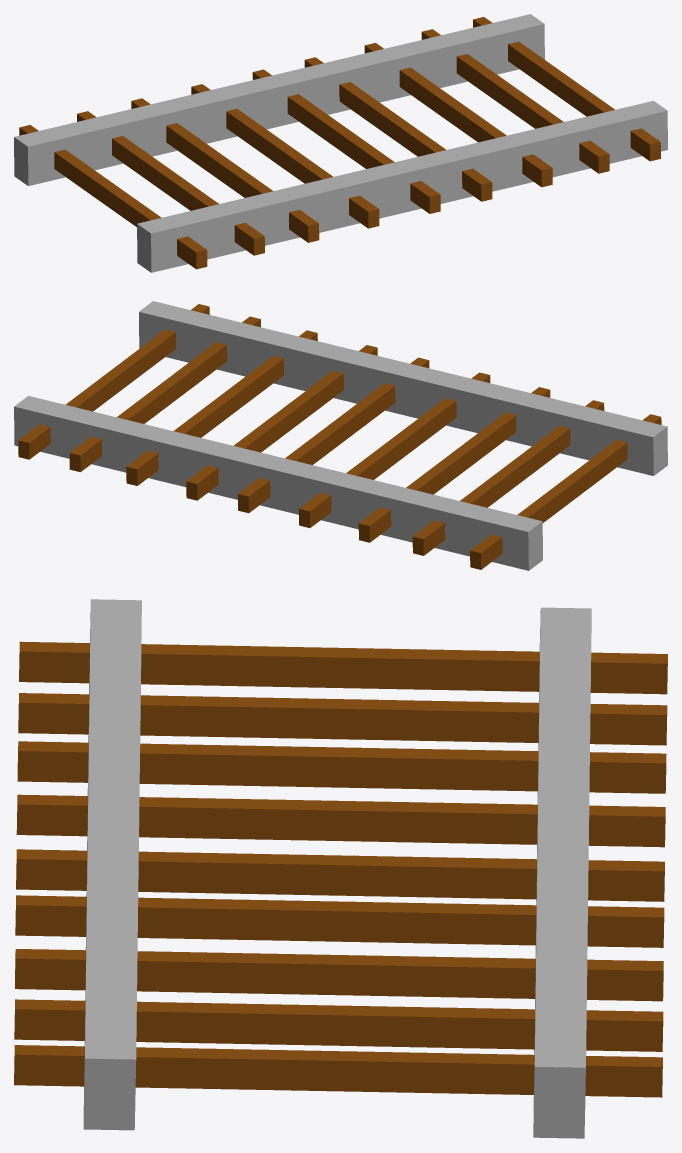
File: rail_by_yassin_wessam.glb
3 views of the same model, one above another, from view 1: azimuth 30°, elevation 25°; view 2: azimuth 150°, elevation 25°; view 3: azimuth 270°, elevation 25° (orthographic). The views are drawn at different scales.
Parts seen in each view (by area): view 1: rail; view 2: rail; view 3: rail.
Part boxes in pixels (x1,y1,x2,y2): rail: (14,14,667,272); rail: (14,301,667,570); rail: (14,599,667,1138).
Bounding box in the file's own units: 11.82 × 0.9897 × 7.14.
